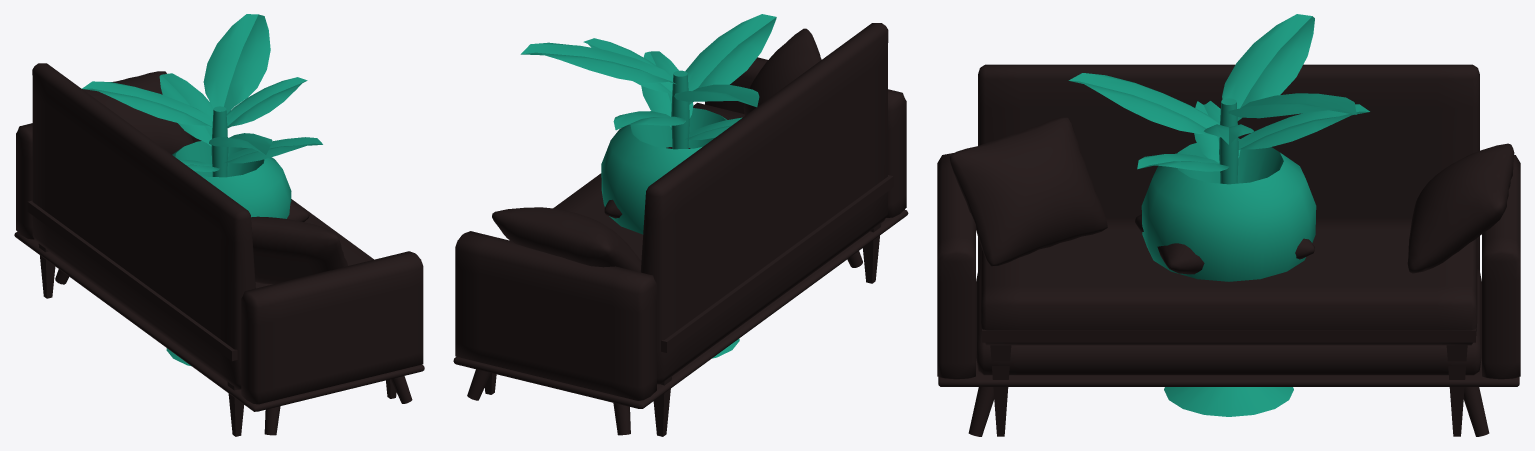
File: sofa_and_pot.fbx
3 views of the same model, side by side, from view 1: azimuth 30°, elevation 25°; view 2: azimuth 150°, elevation 25°; view 3: azimuth 270°, elevation 25° (orthographic). The views are drawn at different scales.
Parts seen in each view (by area): view 1: sofa, flower_pot, table; view 2: sofa, flower_pot, table; view 3: sofa, flower_pot, table.
Part boxes in pixels (x1,y1,x2,y2): sofa: (14,63,424,435); flower_pot: (82,14,322,366); table: (27,200,396,436); sofa: (453,23,908,435); flower_pot: (520,14,776,358); table: (484,175,893,436); sofa: (937,64,1520,436); flower_pot: (1068,14,1369,416); table: (982,329,1475,436).
Size of the model in its own units: 107 by 144 by 228.
